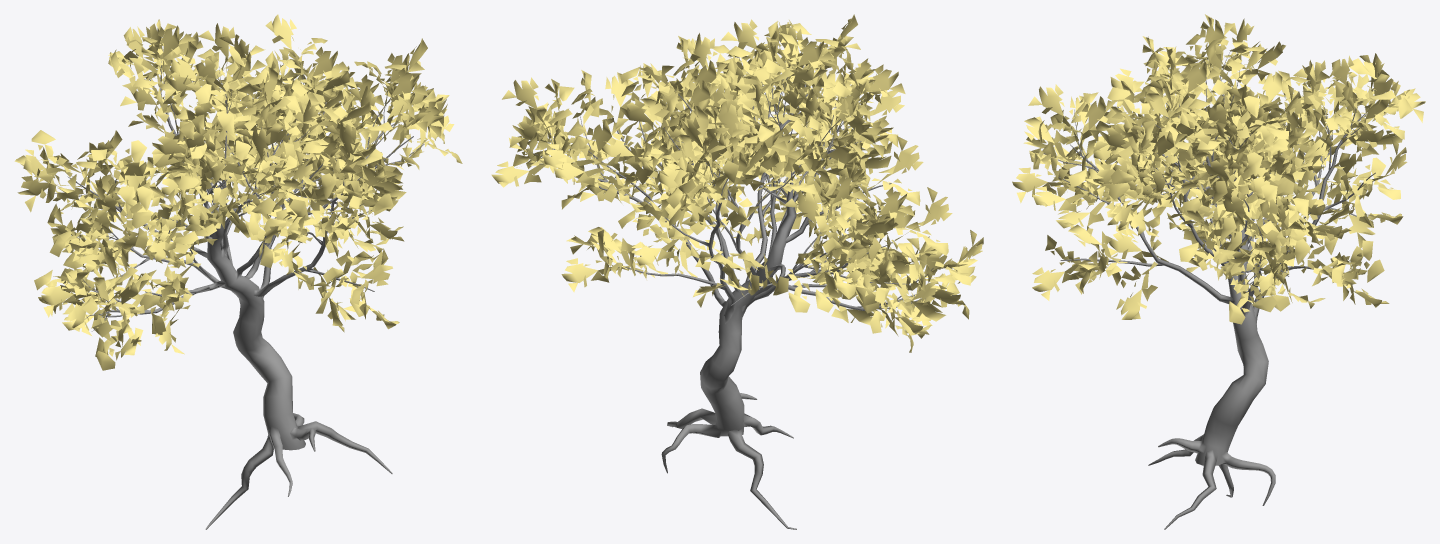
Rendered from tree_01_LOD1.FBX.
3 views of the same model, side by side, from view 1: azimuth 30°, elevation 25°; view 2: azimuth 150°, elevation 25°; view 3: azimuth 270°, elevation 25° (orthographic). The views are drawn at different scales.
Parts seen in each view (by area): view 1: Tree_01_LOD1; view 2: Tree_01_LOD1; view 3: Tree_01_LOD1.
Part boxes in pixels (x1,y1,x2,y2): Tree_01_LOD1: (14, 14, 462, 529); Tree_01_LOD1: (491, 14, 983, 529); Tree_01_LOD1: (1012, 14, 1425, 529).
Size of the model in its own units: 8.9 by 9.63 by 7.4.
